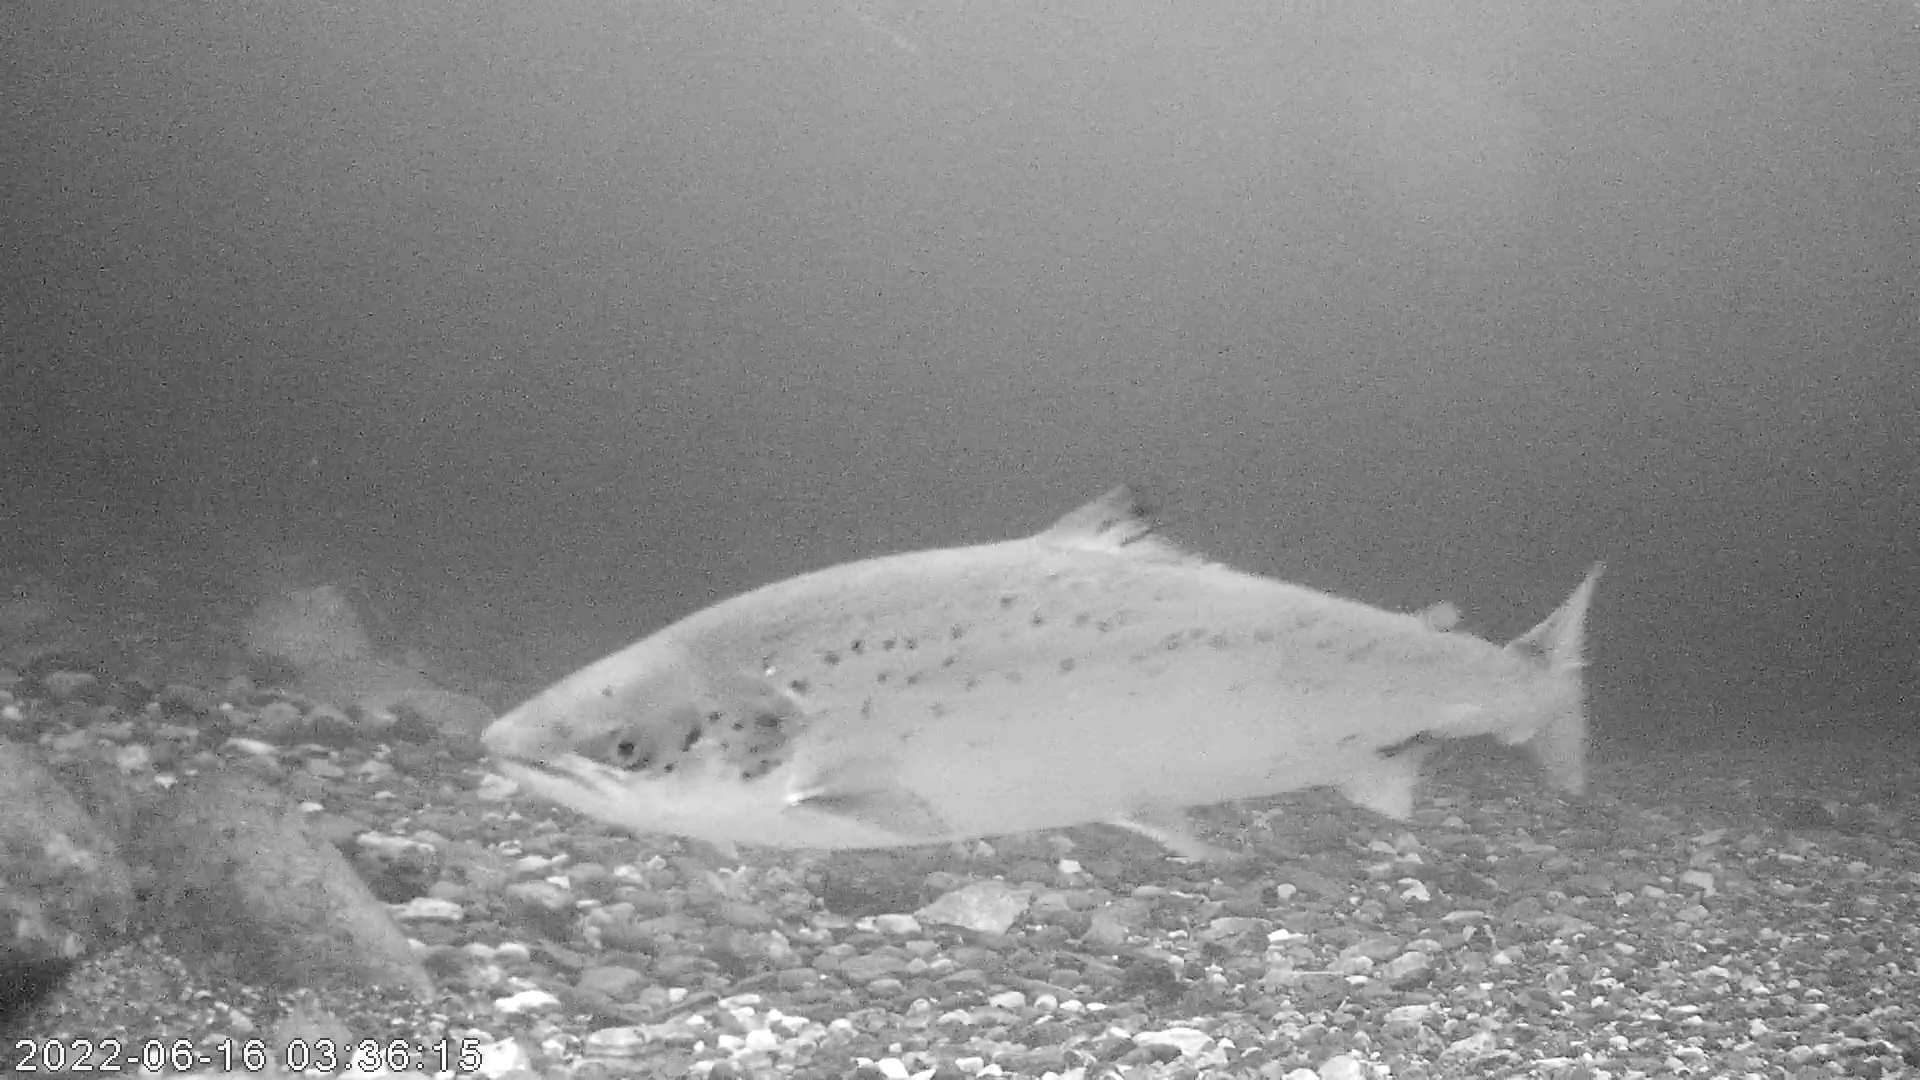salmon: (475, 477, 1607, 856)
